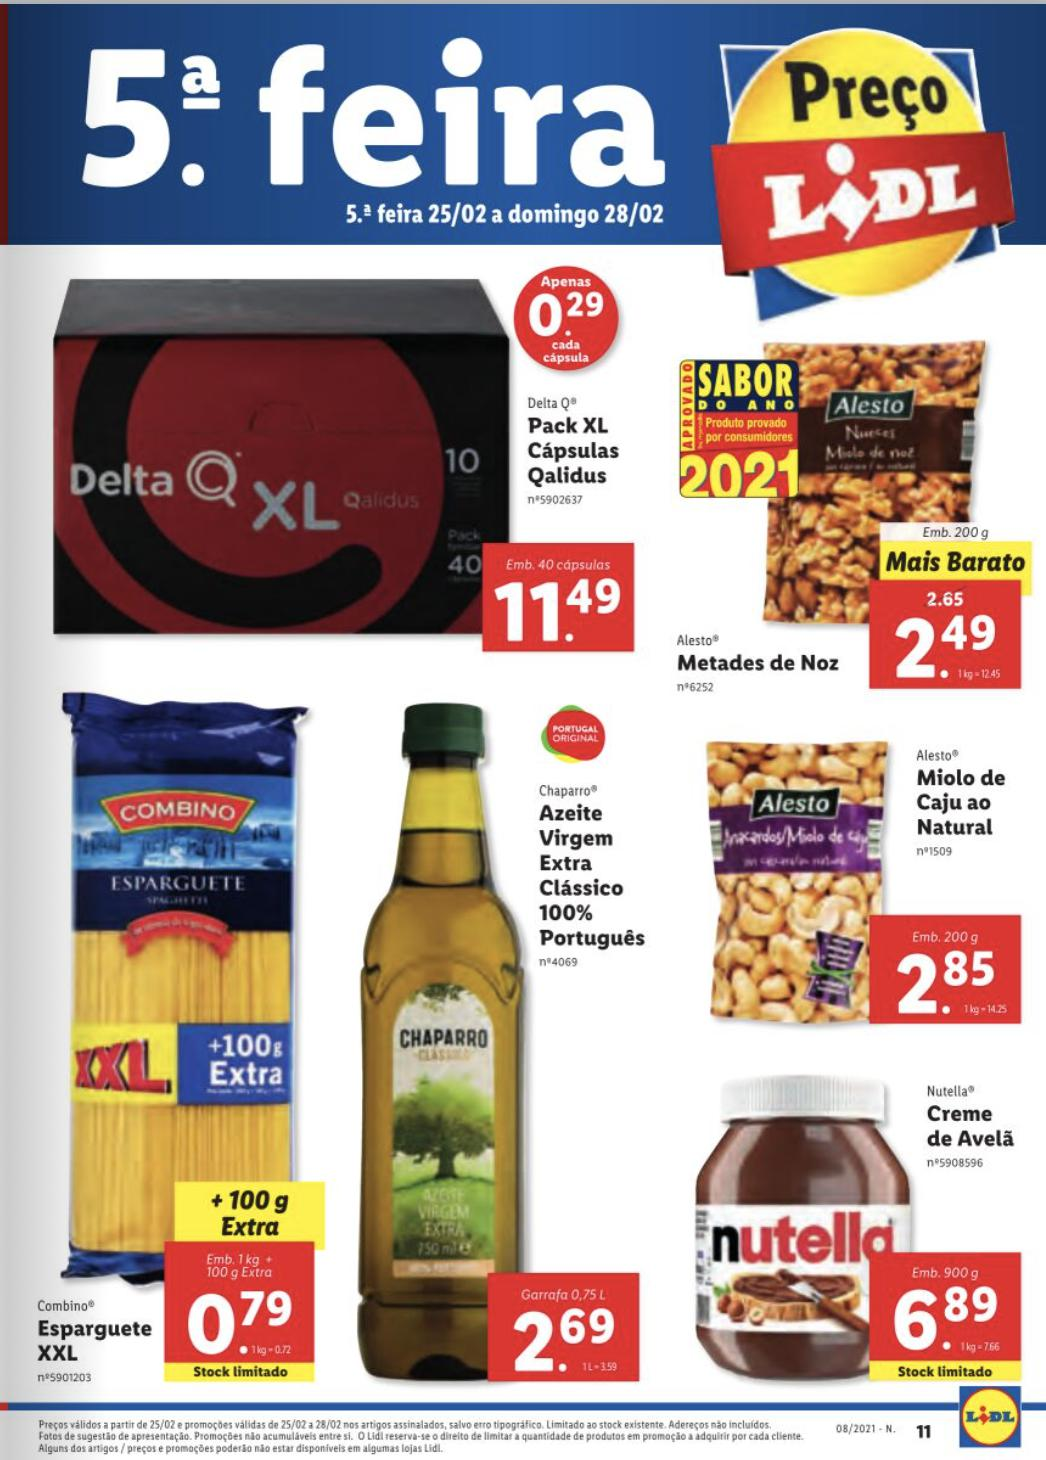name: (528, 796, 650, 954), (912, 764, 1013, 845), (523, 411, 626, 489), (32, 1316, 152, 1364), (923, 1100, 1021, 1154), (677, 651, 848, 680)
price: (512, 1304, 637, 1382), (888, 1280, 1013, 1358), (492, 574, 623, 647), (893, 944, 1013, 1022), (186, 1289, 301, 1365), (895, 615, 1006, 682)
product: (23, 258, 663, 665), (24, 685, 343, 1398), (353, 676, 657, 1391), (675, 325, 1041, 711), (684, 1060, 1035, 1389), (688, 727, 1035, 1036)
